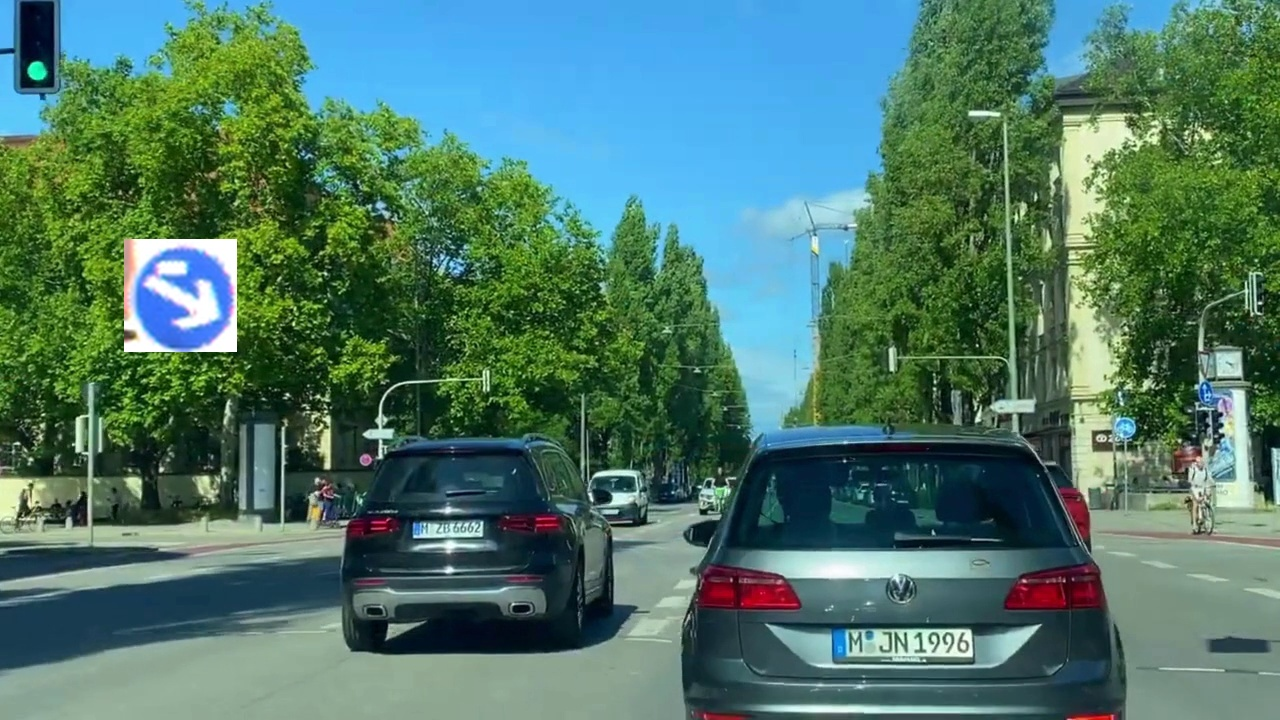Keep right: (124, 239, 237, 352)
